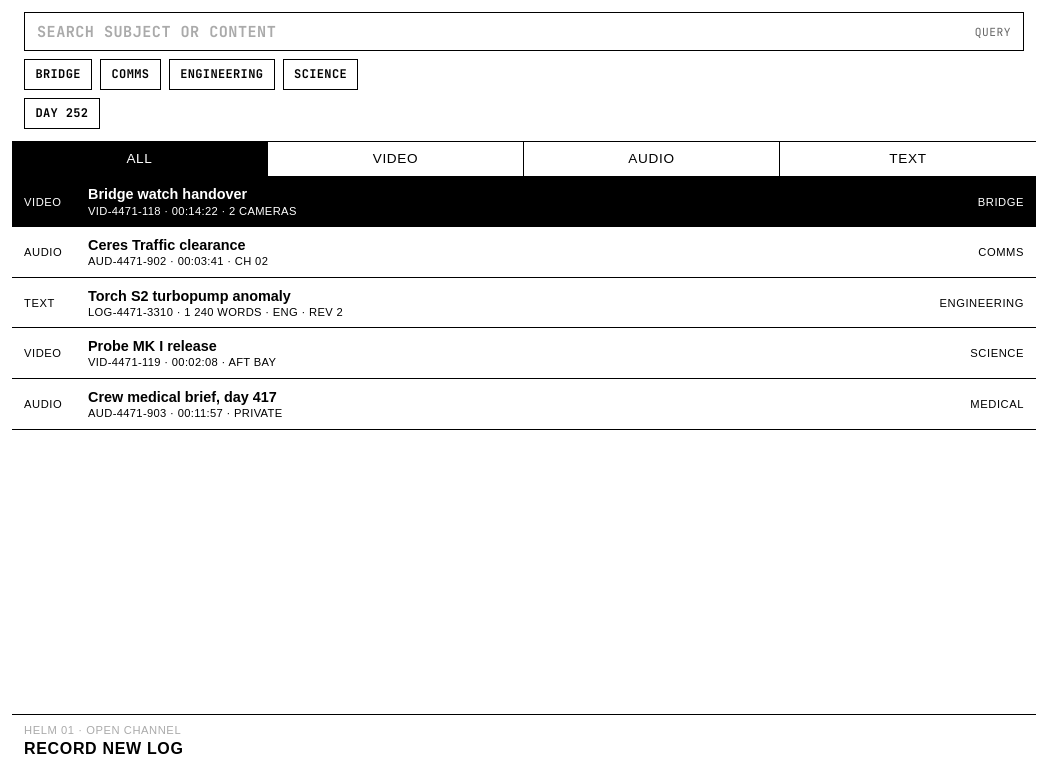
Test: LogList › starts and stops a recording, only adding the log once stopped
Click the button "Helm 01 · Open Channel Record New Log": (103, 730) [12,714,1036,767]
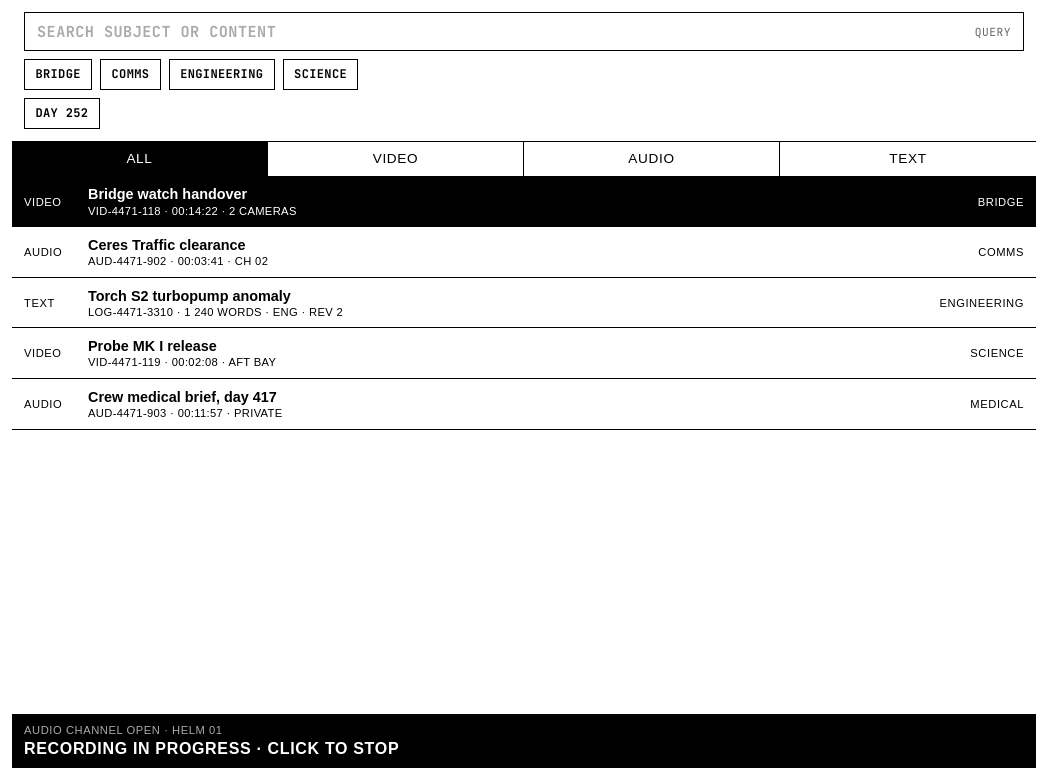
Expected: the text "Recording In Progress · Click To Stop" is shown, [24,740,399,758]
Click the button "Recording In Progress": (123, 730) [12,714,1036,767]
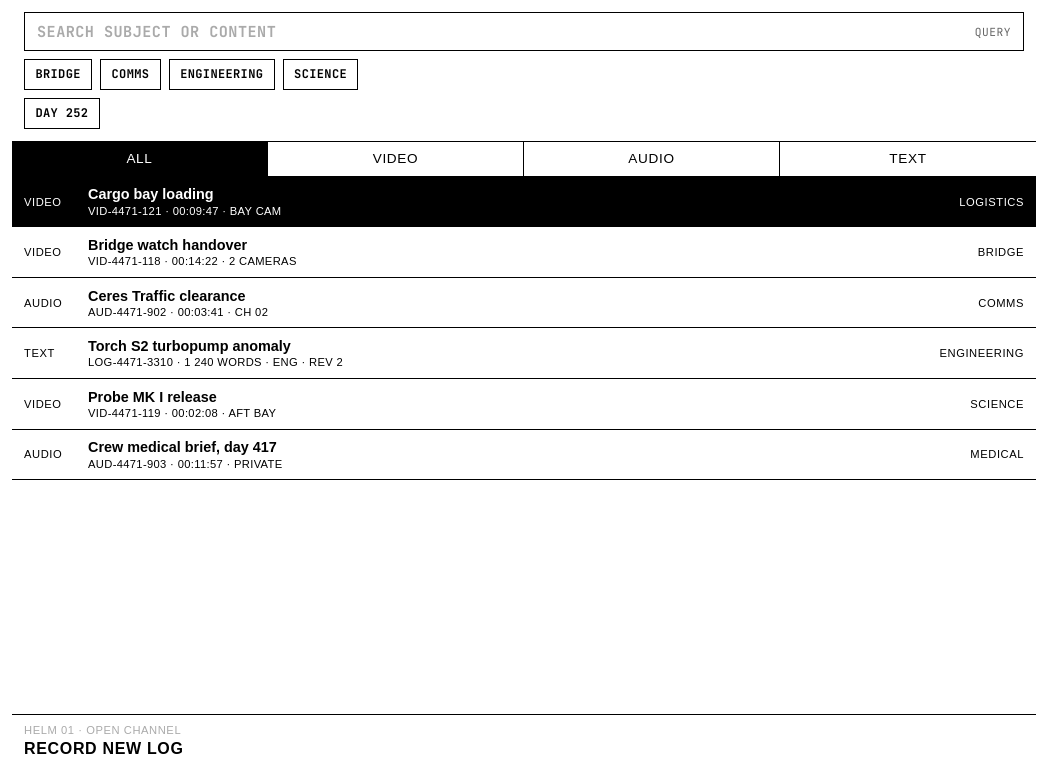
Expected: the button "Helm 01 · Open Channel Record New Log" is shown, [12,714,1036,767]
